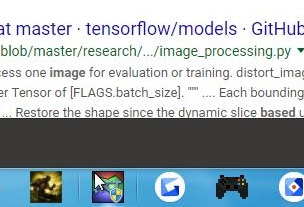cursor: (93, 172, 107, 192)
